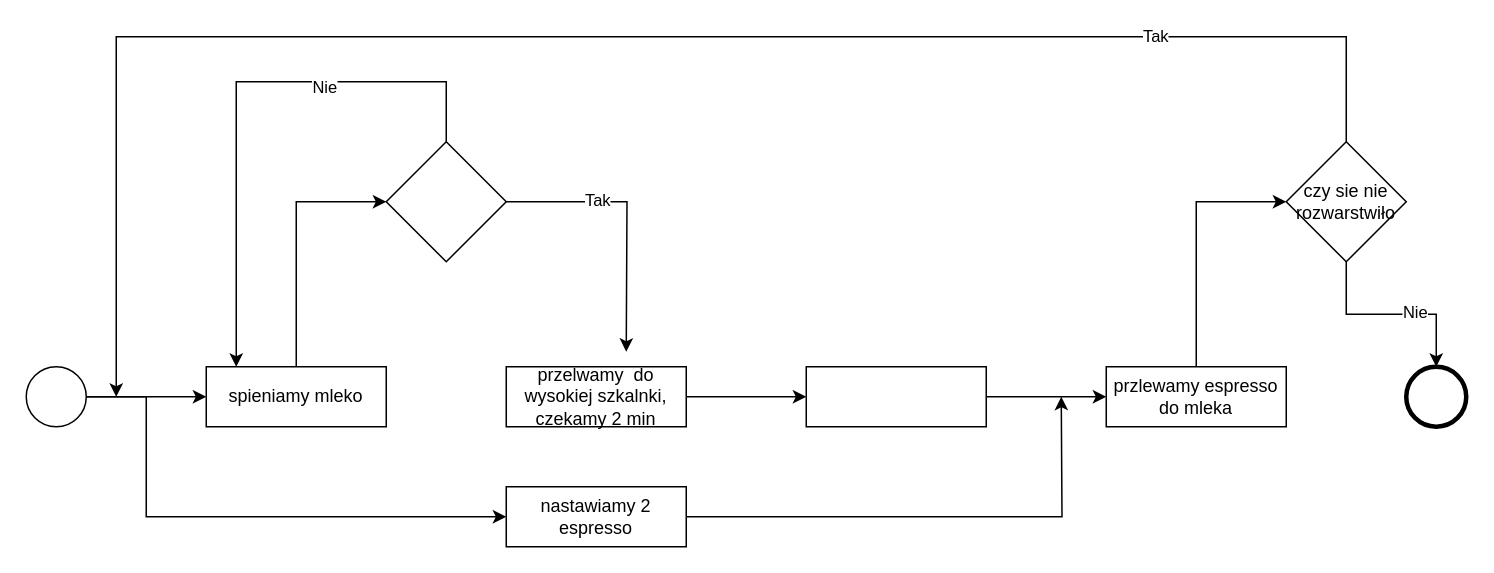
Some shapes in this 1494 by 573 pixel diagram are drawn without their labels. The shapes that lost their labels are listed below. From the top down, each one's box as (x1, y1, x2, y2) in pixels, then its label:
(385, 140, 506, 262): czy sztywne
(805, 365, 986, 427): wkladamy lyzke do szklanki
